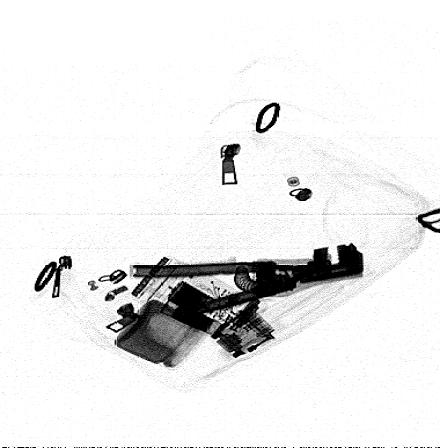Pliers: (131, 241, 365, 322)
